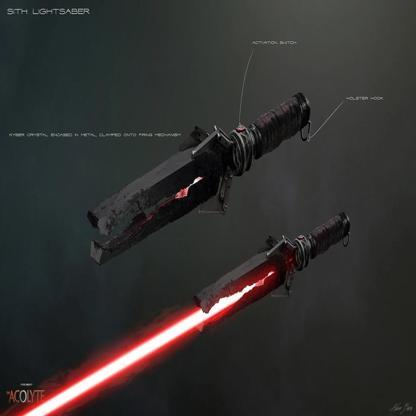sith_lightsaber: (1, 211, 354, 415)
